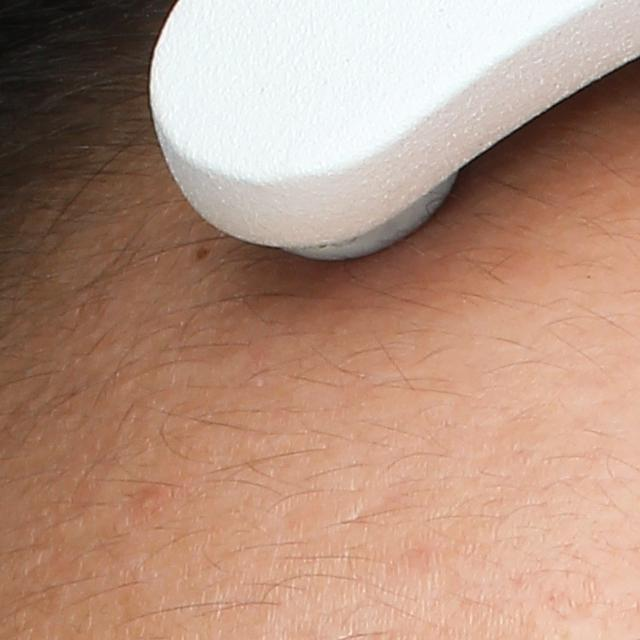papule: (133, 486, 162, 514)
